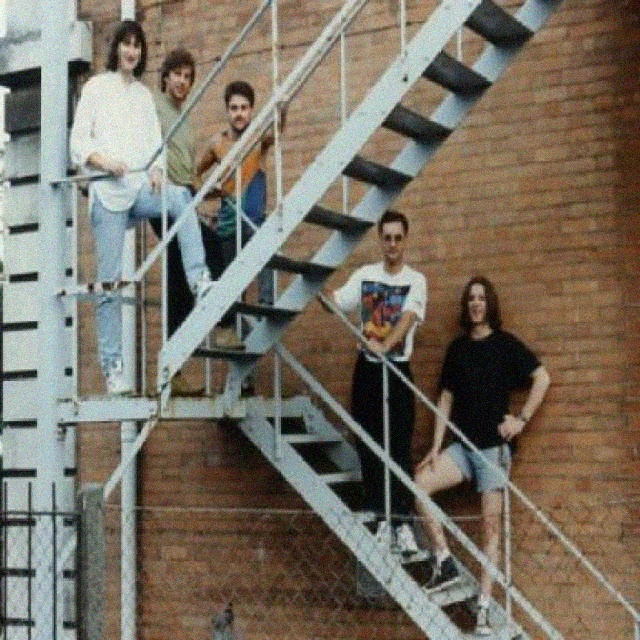stair: (157, 0, 561, 391), (238, 397, 534, 638)
